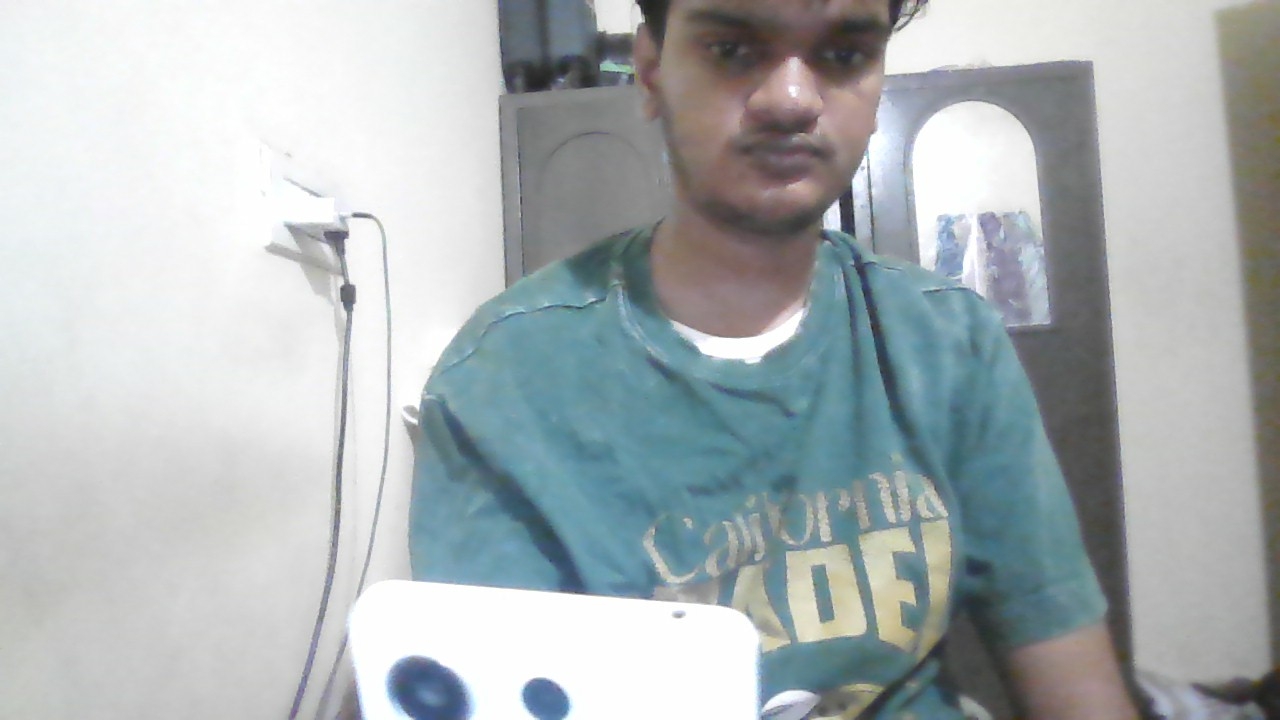phone: (351, 578, 757, 720)
